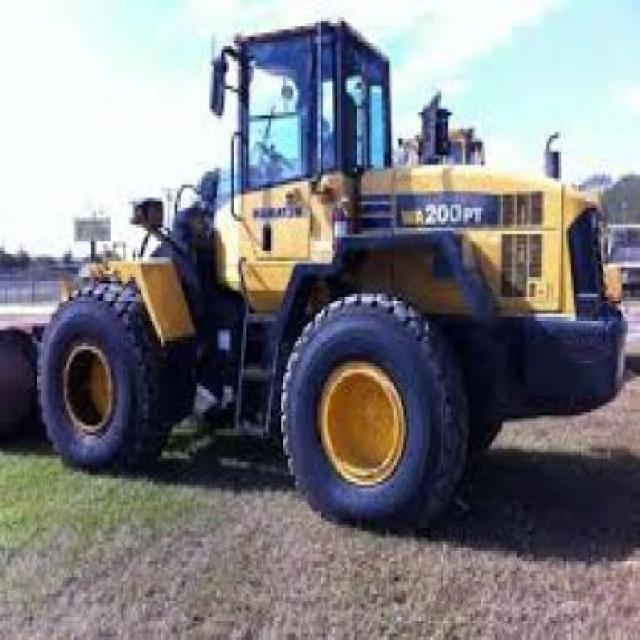buldozerpayloadergrader: (31, 16, 634, 544)
